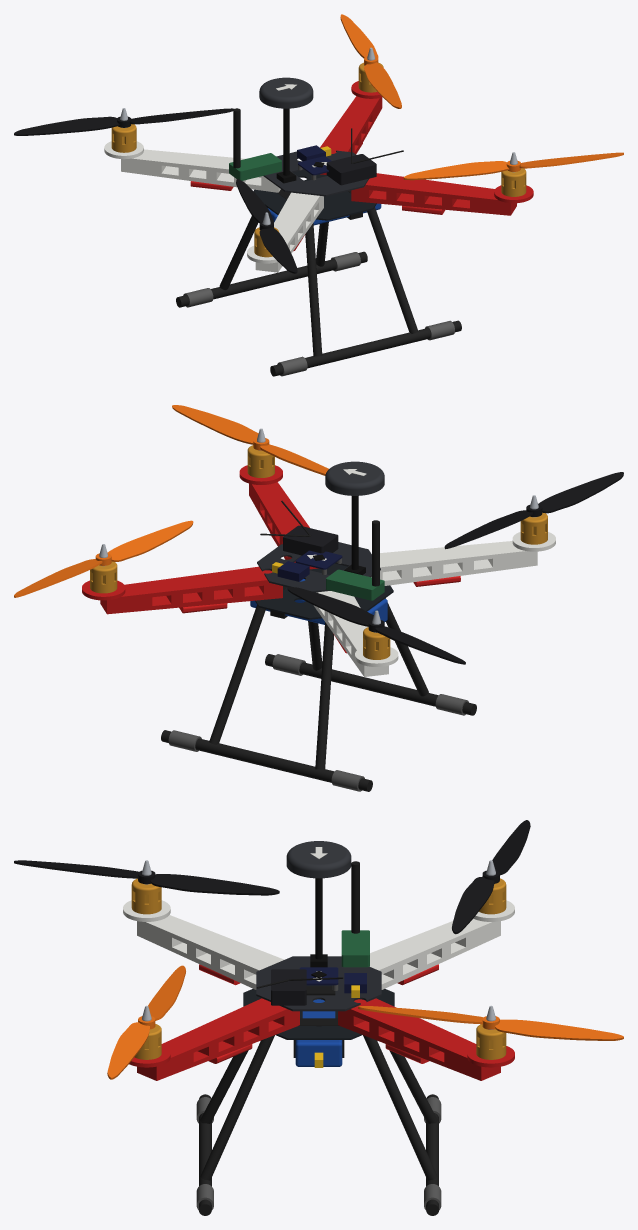
Rendered from navi_f450.glb.
The picture shows the model from 3 angles, top to bottom: view 1: azimuth 30°, elevation 25°; view 2: azimuth 150°, elevation 25°; view 3: azimuth 270°, elevation 25°; orthographic projection. The views are drawn at different scales.
Visible parts, largest first — view 1: arm_315, arm_135, arm_225, arm_45, prop_1045_315, prop_1045_135, top_plate, gear_skid_-1, bottom_plate_PDB, prop_1045_225, prop_1045_45, gear_skid_1 (+8 smaller); view 2: arm_45, arm_225, arm_315, prop_1045_45, prop_1045_225, prop_1045_135, arm_135, prop_1045_315, gear_skid_1, top_plate, gear_skid_-1, gps_M8N_compass (+12 smaller); view 3: arm_315, arm_45, arm_225, arm_135, prop_1045_225, prop_1045_45, top_plate, prop_1045_135, prop_1045_315, gps_M8N_compass, gear_leg_1_1, gear_leg_1_-1 (+14 smaller).
Boxes of the visible parts, box(x1,y1,x2,y2) form: arm_315: box(351, 173, 533, 215); arm_135: box(104, 141, 280, 192); arm_225: box(247, 192, 323, 272); arm_45: box(320, 81, 382, 174); prop_1045_315: box(403, 152, 623, 180); prop_1045_135: box(14, 108, 233, 135); top_plate: box(263, 150, 368, 196); gear_skid_-1: box(270, 320, 461, 376); bottom_plate_PDB: box(253, 170, 376, 220); prop_1045_225: box(236, 179, 297, 273); prop_1045_45: box(340, 14, 401, 108); gear_skid_1: box(176, 251, 367, 307); arm_45: box(82, 566, 282, 614); arm_225: box(371, 532, 555, 585); arm_315: box(239, 465, 318, 569); prop_1045_45: box(14, 520, 193, 597); prop_1045_225: box(444, 472, 623, 549); prop_1045_135: box(287, 587, 465, 664); arm_135: box(313, 591, 398, 676); prop_1045_315: box(172, 405, 328, 475); gear_skid_1: box(161, 730, 372, 791); top_plate: box(257, 542, 380, 592); gear_skid_-1: box(265, 654, 476, 715); gps_M8N_compass: box(325, 461, 384, 495); arm_315: box(129, 998, 299, 1080); arm_45: box(338, 998, 514, 1080); arm_225: box(123, 900, 284, 989); arm_135: box(370, 900, 514, 989); prop_1045_225: box(14, 860, 279, 895); prop_1045_45: box(358, 1006, 623, 1040); top_plate: box(256, 956, 381, 1011); prop_1045_135: box(452, 820, 530, 934); prop_1045_315: box(107, 965, 185, 1079); gps_M8N_compass: box(286, 841, 351, 878); gear_leg_1_1: box(363, 1035, 437, 1180); gear_leg_1_-1: box(200, 1035, 274, 1180).
Bounding box in the file's own units: 564 × 297 × 564.
